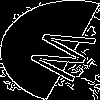W: (25, 25, 100, 86)
